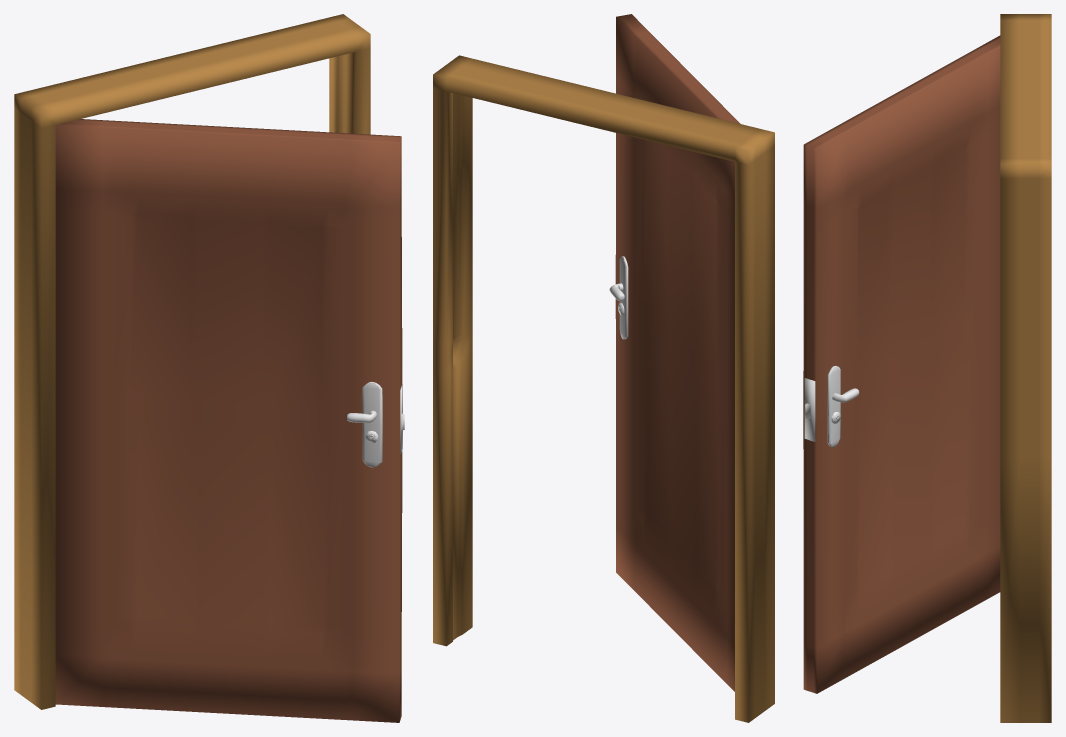
File: DOOR.gltf
3 views of the same model, side by side, from view 1: azimuth 30°, elevation 25°; view 2: azimuth 150°, elevation 25°; view 3: azimuth 270°, elevation 25° (orthographic). The views are drawn at different scales.
Parts seen in each view (by area): view 1: DoorBoddy_Cube.001, OutBoddy_Cube.002, Locker.001_Cube.004; view 2: DoorBoddy_Cube.001, OutBoddy_Cube.002, Locker_Cube.003; view 3: DoorBoddy_Cube.001, OutBoddy_Cube.002, Locker_Cube.003.
Part boxes in pixels (left/top/right/bottom): DoorBoddy_Cube.001: left=55, top=119, right=404, bottom=722; OutBoddy_Cube.002: left=14, top=14, right=370, bottom=709; Locker.001_Cube.004: left=362, top=381, right=382, bottom=467; DoorBoddy_Cube.001: left=615, top=14, right=740, bottom=691; OutBoddy_Cube.002: left=433, top=55, right=774, bottom=722; Locker_Cube.003: left=618, top=256, right=628, bottom=339; DoorBoddy_Cube.001: left=803, top=35, right=1000, bottom=693; OutBoddy_Cube.002: left=1000, top=14, right=1051, bottom=722; Locker_Cube.003: left=827, top=365, right=840, bottom=446.
Bounding box in the file's own units: 7.18 × 12.42 × 4.98.
